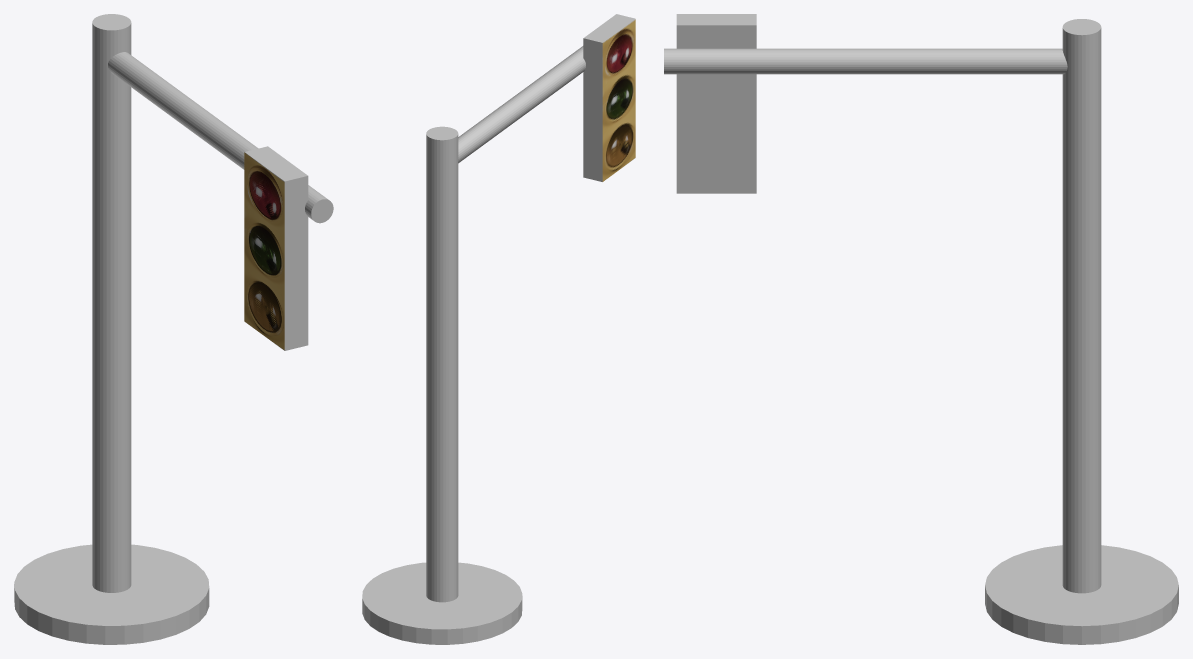
The model's file is semaphore.fbx.
3 views of the same model, side by side, from view 1: azimuth 30°, elevation 25°; view 2: azimuth 150°, elevation 25°; view 3: azimuth 270°, elevation 25° (orthographic). The views are drawn at different scales.
Parts seen in each view (by area): view 1: Semaphore; view 2: Semaphore; view 3: Semaphore.
Part boxes in pixels (x1,y1,x2,y2): Semaphore: [14, 14, 333, 644]; Semaphore: [362, 14, 635, 644]; Semaphore: [664, 14, 1178, 644].
Bounding box in the file's own units: 13.18 × 43.3 × 35.01.
